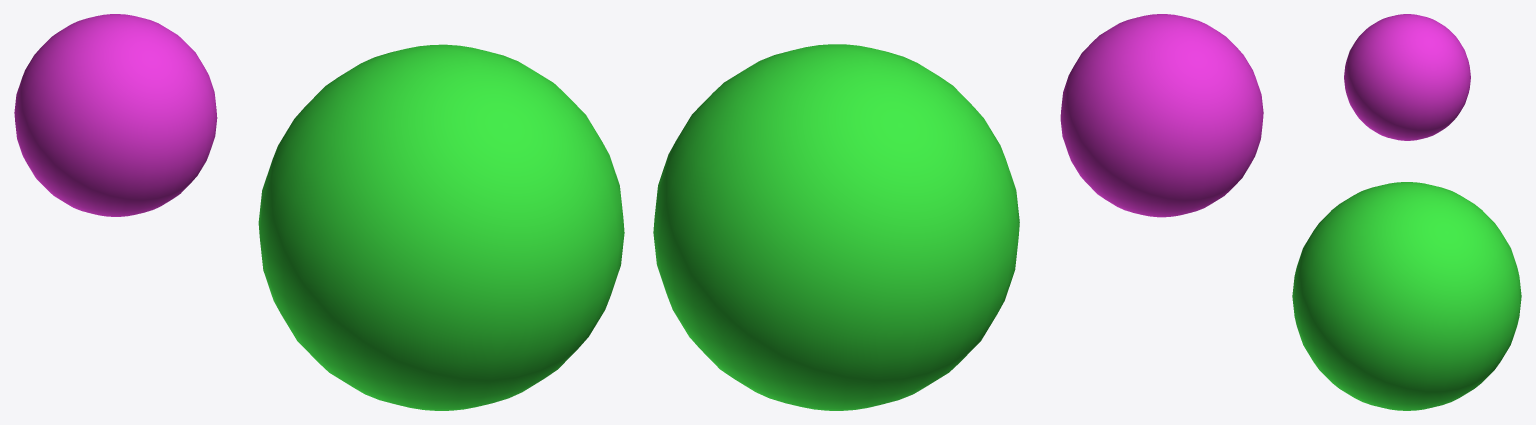
File: GreenPinkSpheres.fbx
The picture shows the model from 3 angles, left to right: view 1: azimuth 30°, elevation 25°; view 2: azimuth 150°, elevation 25°; view 3: azimuth 270°, elevation 25°; orthographic projection. The views are drawn at different scales.
Parts seen in each view (by area): view 1: Sphere, Sphere.001; view 2: Sphere, Sphere.001; view 3: Sphere, Sphere.001.
Boxes of the visible parts, x1=… form: Sphere: x1=258, y1=44, x2=624, y2=410; Sphere.001: x1=14, y1=14, x2=217, y2=216; Sphere: x1=653, y1=44, x2=1019, y2=410; Sphere.001: x1=1060, y1=14, x2=1263, y2=217; Sphere: x1=1292, y1=182, x2=1521, y2=410; Sphere.001: x1=1344, y1=14, x2=1470, y2=140.
Bounding box in the file's own units: 360 × 271 × 200.
